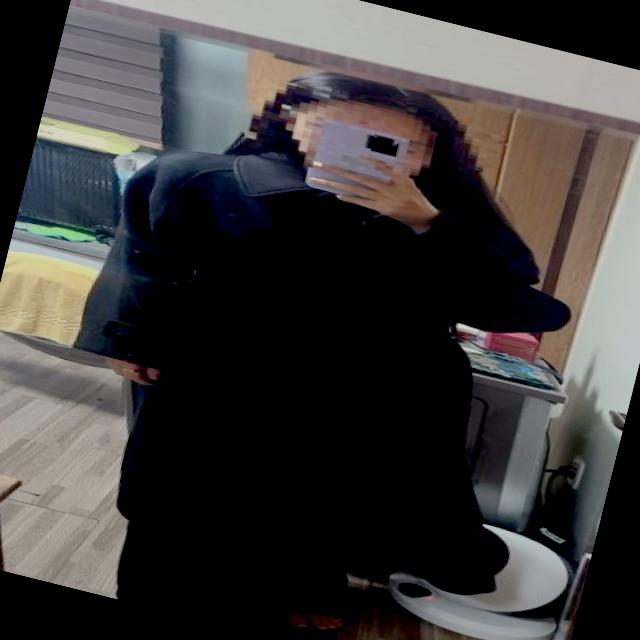coat: (34, 108, 596, 616)
slacks: (102, 491, 359, 640)
